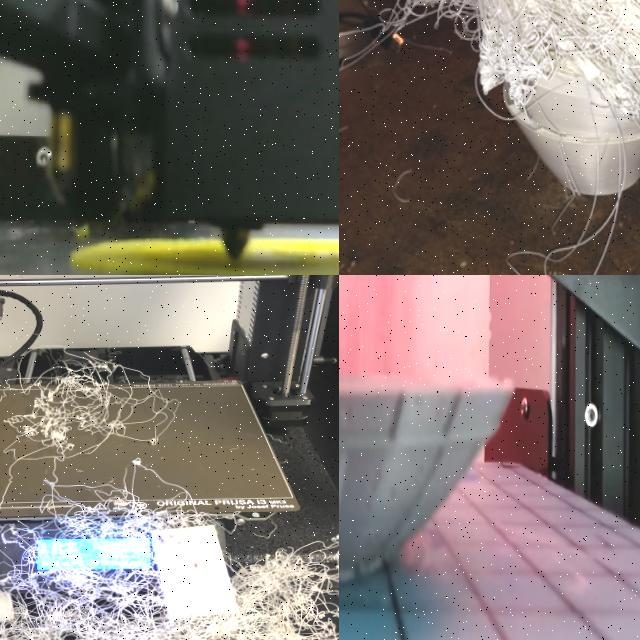spaghetti: (0, 438, 339, 640), (341, 0, 640, 163), (14, 351, 179, 454)
